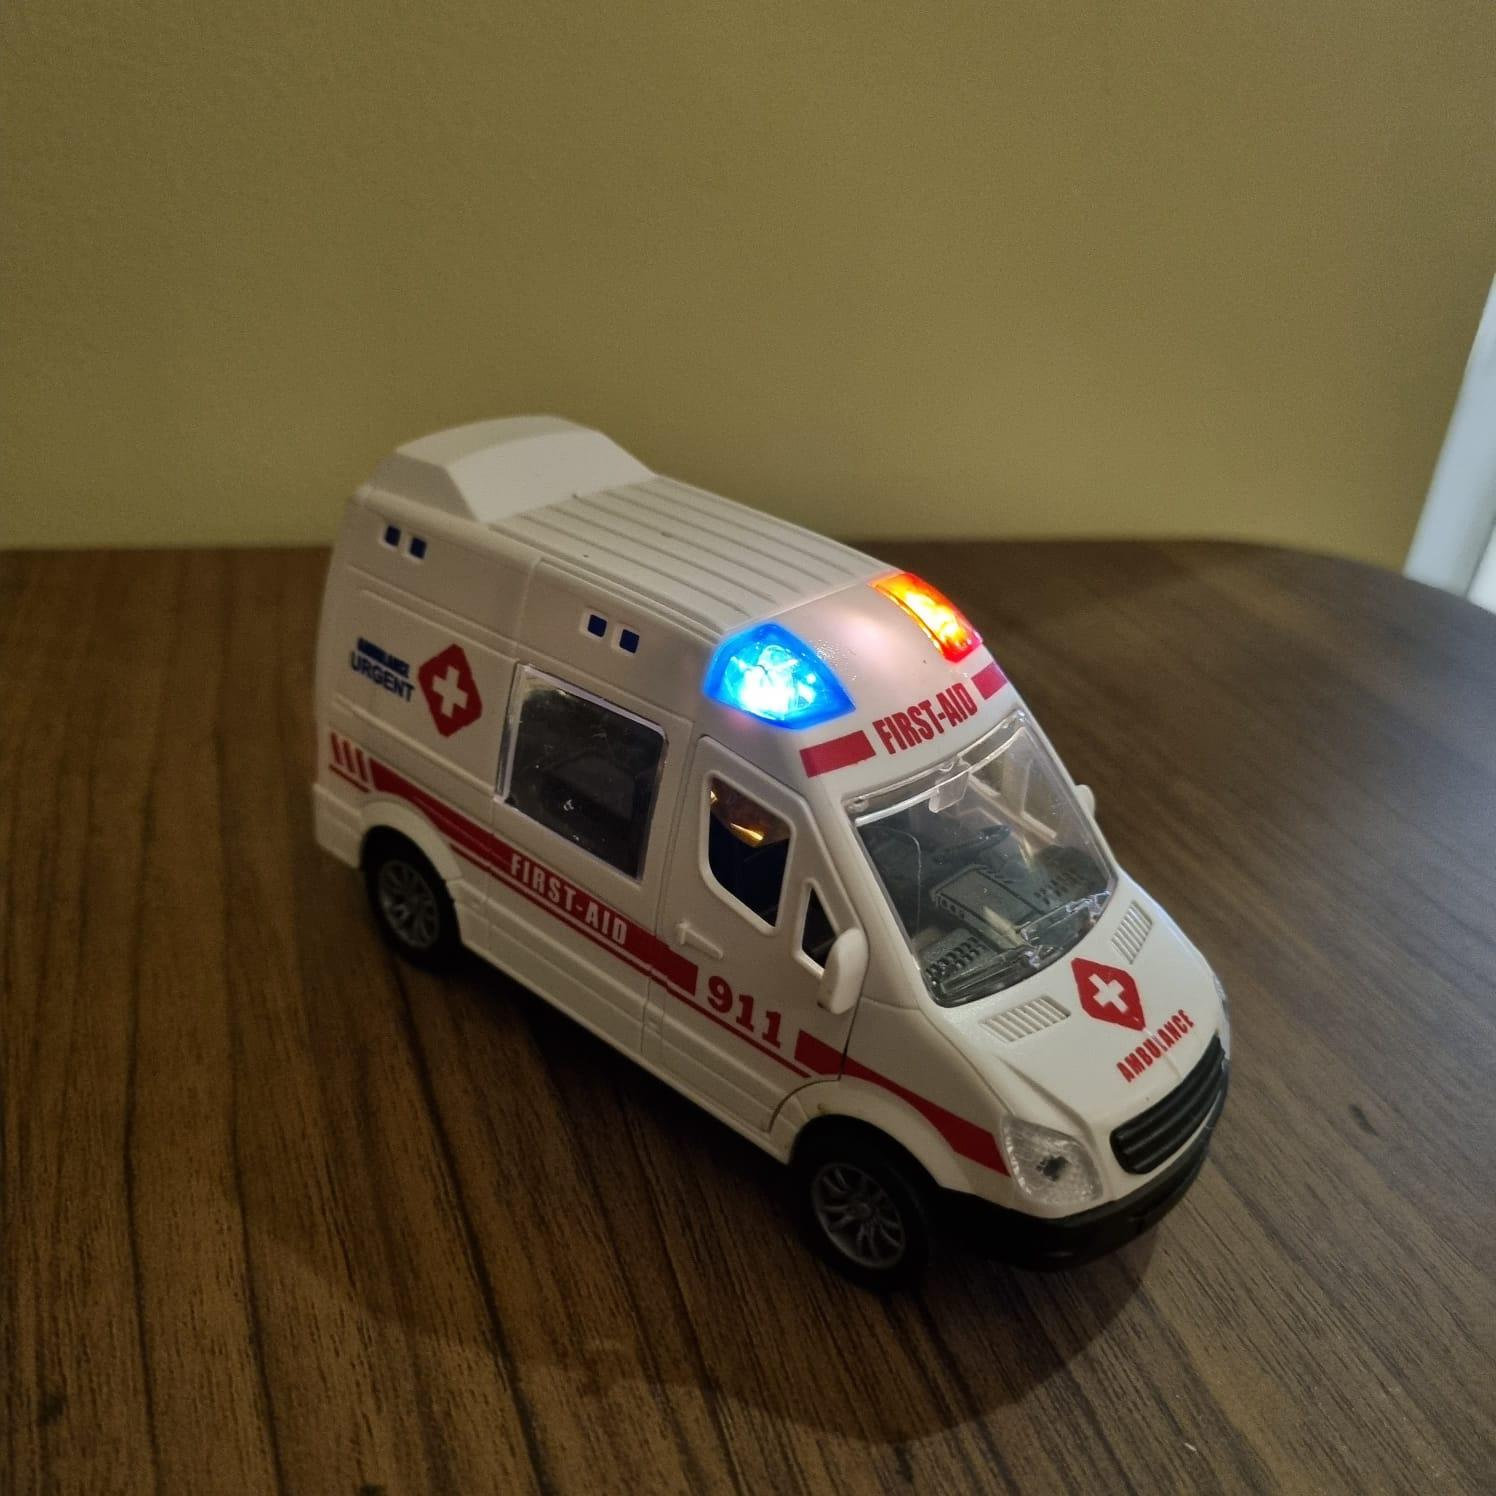ambulance_on: (310, 411, 1236, 1293)
